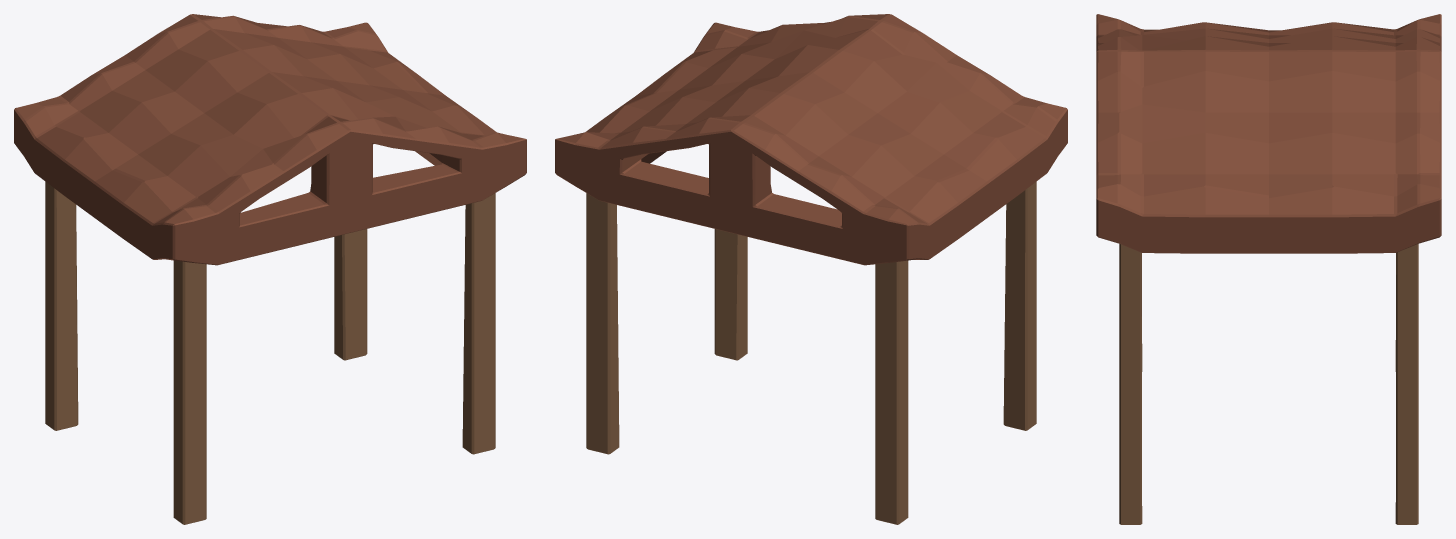
Rendered from bs-roof.fbx.
3 renders of one model, left to right at view 1: azimuth 30°, elevation 25°; view 2: azimuth 150°, elevation 25°; view 3: azimuth 270°, elevation 25°, orthographic. The views are drawn at different scales.
Parts seen in each view (by area): view 1: Cube.092; view 2: Cube.092; view 3: Cube.092.
Part boxes in pixels (left/top/right/bottom): Cube.092: left=14, top=14, right=526, bottom=524; Cube.092: left=555, top=14, right=1067, bottom=524; Cube.092: left=1096, top=14, right=1441, bottom=524.
Size of the model in its own units: 832 by 819 by 652.
